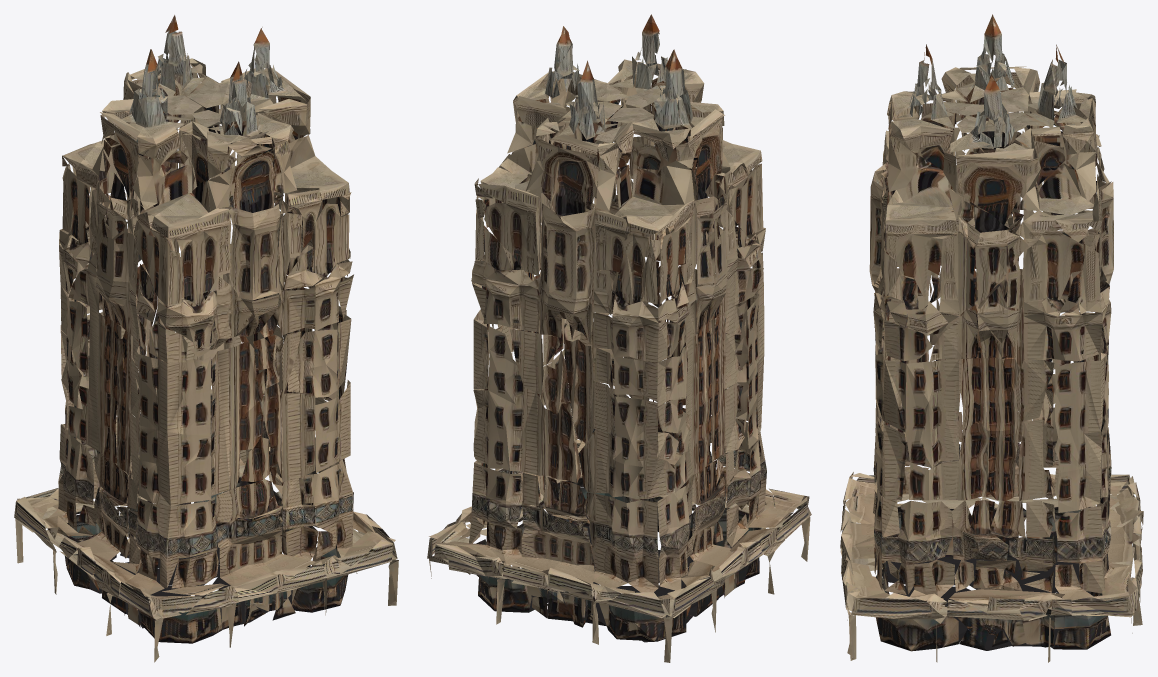
The model's file is JHB_HeroBuilding06_LOD2.fbx.
The picture shows the model from 3 angles, left to right: view 1: azimuth 30°, elevation 25°; view 2: azimuth 150°, elevation 25°; view 3: azimuth 270°, elevation 25°; orthographic projection. The views are drawn at different scales.
Parts seen in each view (by area): view 1: JHB_HeroBuilding06_LOD2; view 2: JHB_HeroBuilding06_LOD2; view 3: JHB_HeroBuilding06_LOD2.
Part boxes in pixels (bbox=[...]): JHB_HeroBuilding06_LOD2: bbox=[14, 15, 398, 662]; JHB_HeroBuilding06_LOD2: bbox=[427, 14, 811, 662]; JHB_HeroBuilding06_LOD2: bbox=[840, 14, 1143, 662].
Bounding box in the file's own units: 8.6 × 17.55 × 8.56.
